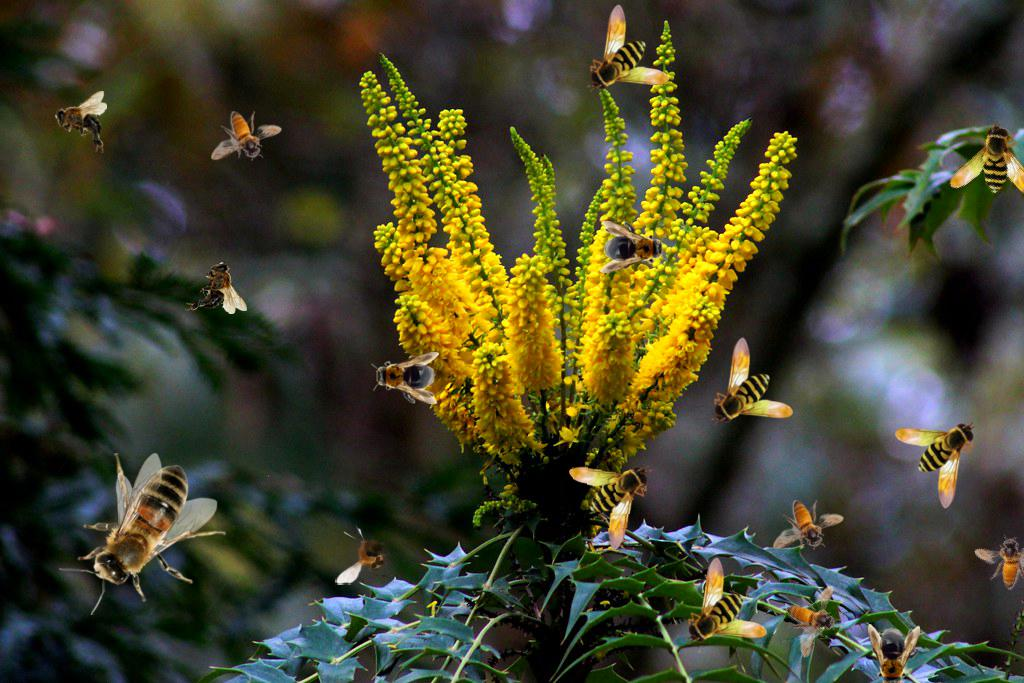Bee: (59, 453, 226, 615), (941, 117, 1024, 237), (564, 459, 652, 553), (770, 573, 856, 660), (895, 421, 977, 509), (685, 557, 767, 645), (587, 4, 669, 92), (711, 337, 793, 425), (965, 522, 1024, 601), (335, 524, 405, 585), (773, 500, 844, 550), (211, 111, 282, 161), (371, 352, 439, 404), (600, 221, 668, 273), (54, 91, 107, 153), (185, 261, 247, 314), (868, 624, 920, 683)
